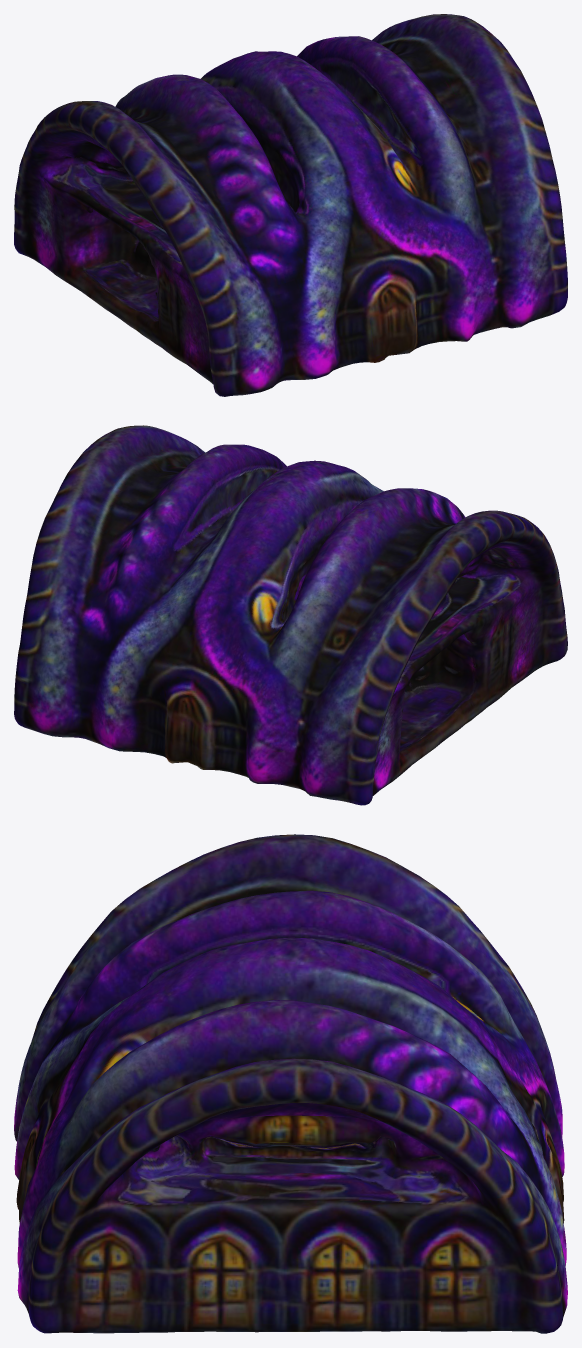
File: 01fc3e145a3b_e40a0b64cd69_A_3D_barracks_with_.glb
The picture shows the model from 3 angles, top to bottom: view 1: azimuth 30°, elevation 25°; view 2: azimuth 150°, elevation 25°; view 3: azimuth 270°, elevation 25°; orthographic projection. The views are drawn at different scales.
Parts seen in each view (by area): view 1: mesh; view 2: mesh; view 3: mesh.
Part boxes in pixels (x1,y1,x2,y2): mesh: [14, 14, 567, 396]; mesh: [14, 425, 567, 805]; mesh: [14, 834, 567, 1333].
Size of the model in its own units: 0.9981 by 0.5388 by 0.9417.
1 material, 1 textured.
